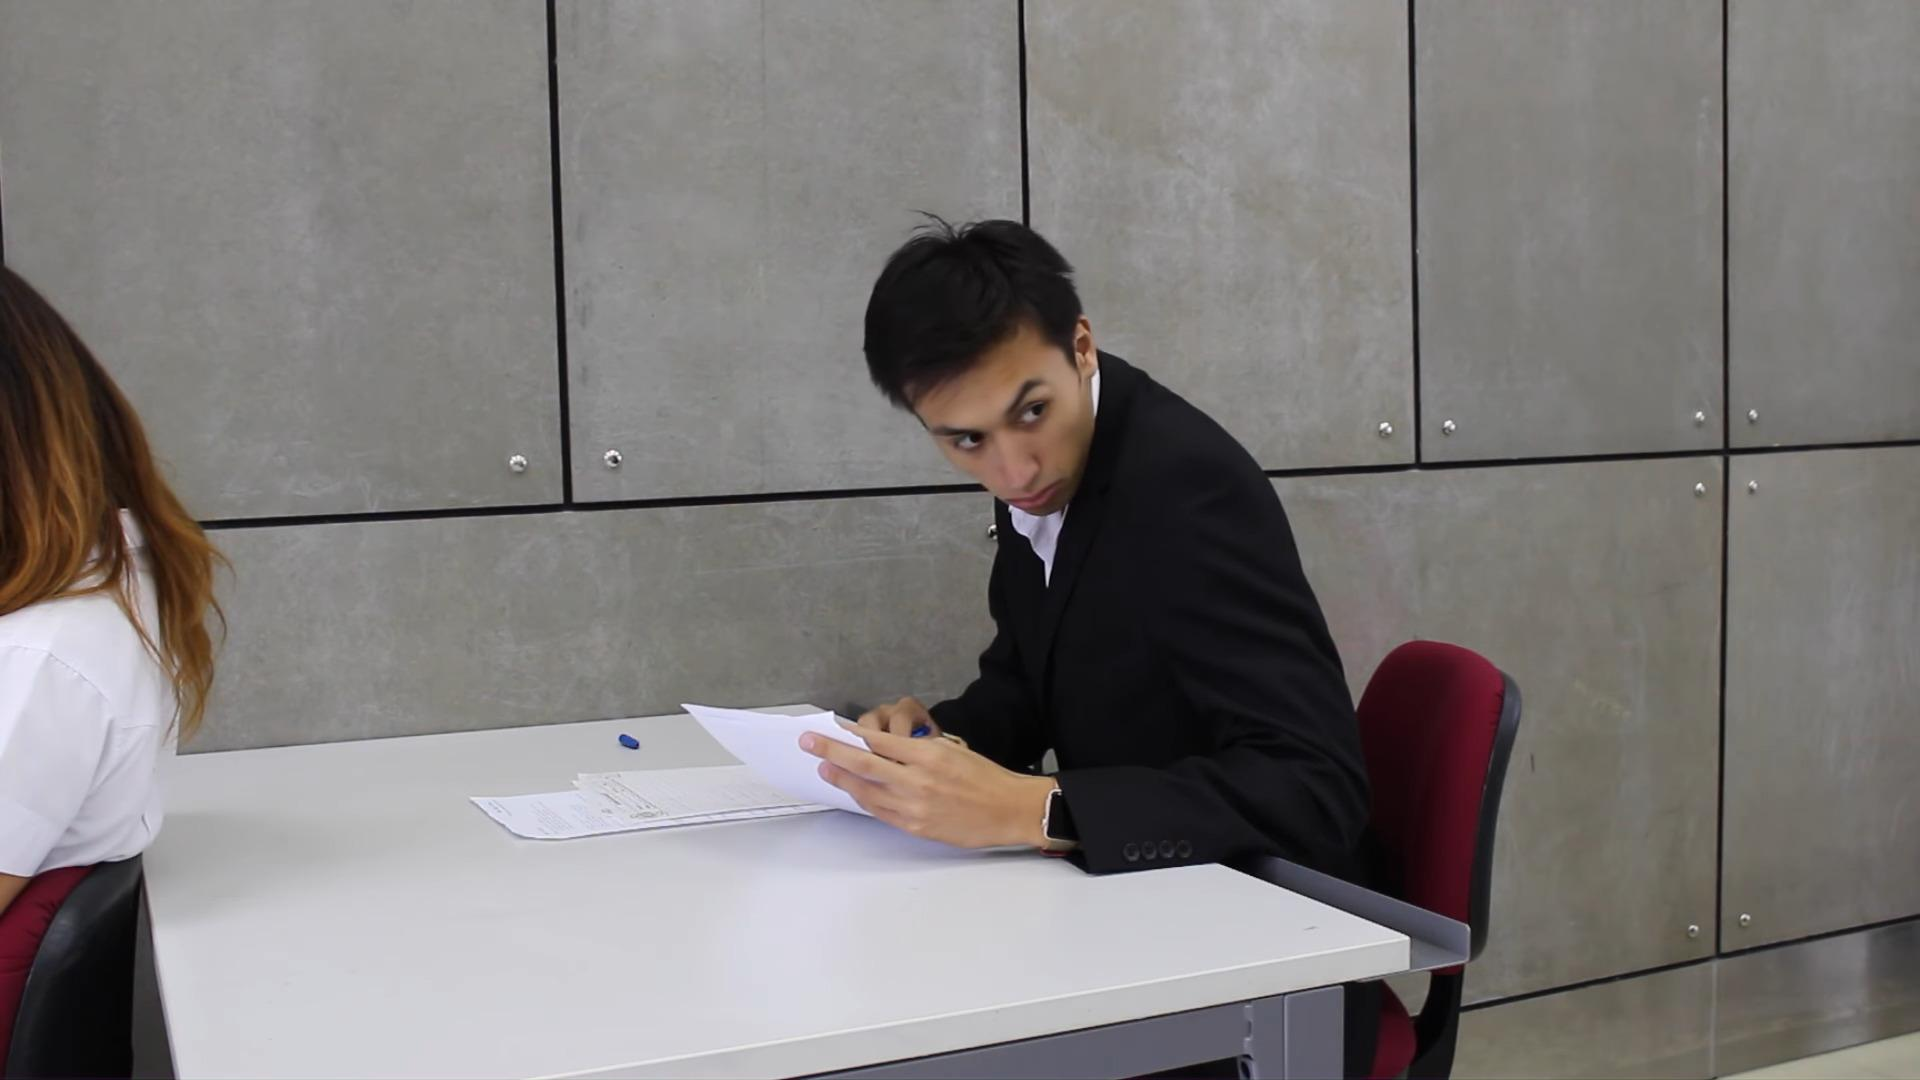cheating: (440, 161, 1403, 919)
